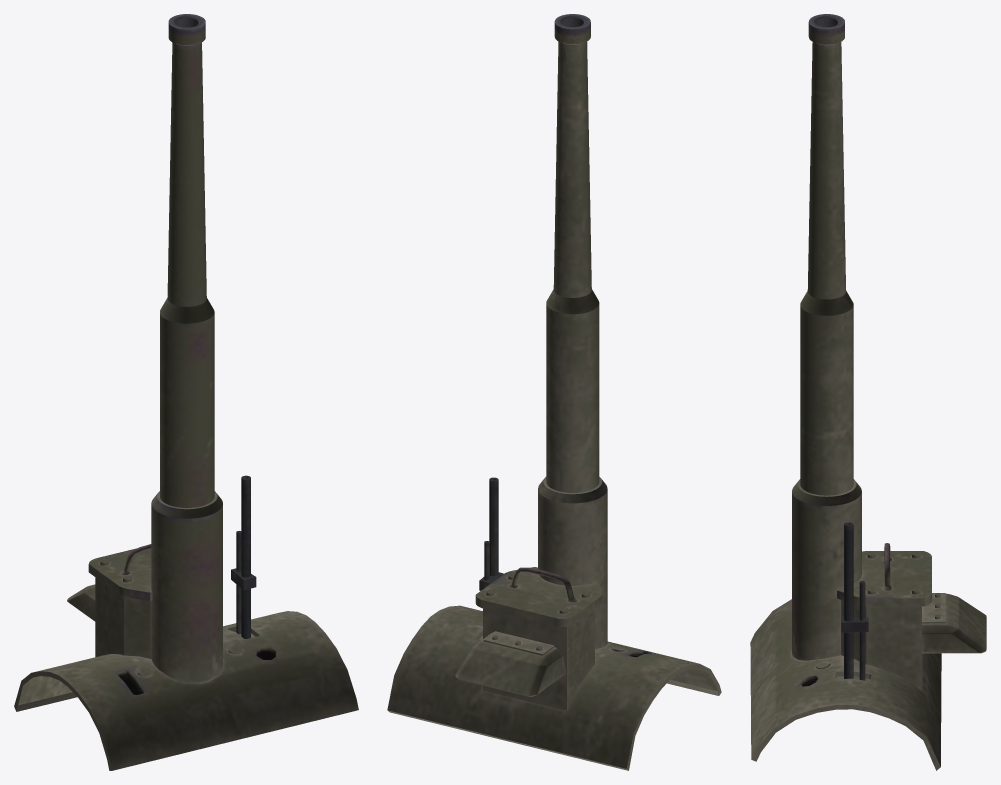
File: Gun_03.glb
3 renders of one model, left to right at view 1: azimuth 30°, elevation 25°; view 2: azimuth 150°, elevation 25°; view 3: azimuth 270°, elevation 25°, orthographic. The views are drawn at different scales.
Parts seen in each view (by area): view 1: set_0_group_0; view 2: set_0_group_0; view 3: set_0_group_0.
Part boxes in pixels (x1,y1,x2,y2): set_0_group_0: (14, 14, 358, 770); set_0_group_0: (387, 14, 721, 770); set_0_group_0: (750, 14, 986, 770).
Bounding box in the file's own units: 0.5452 × 1.48 × 0.4624.
Materials: 1 (1 with a texture image).
